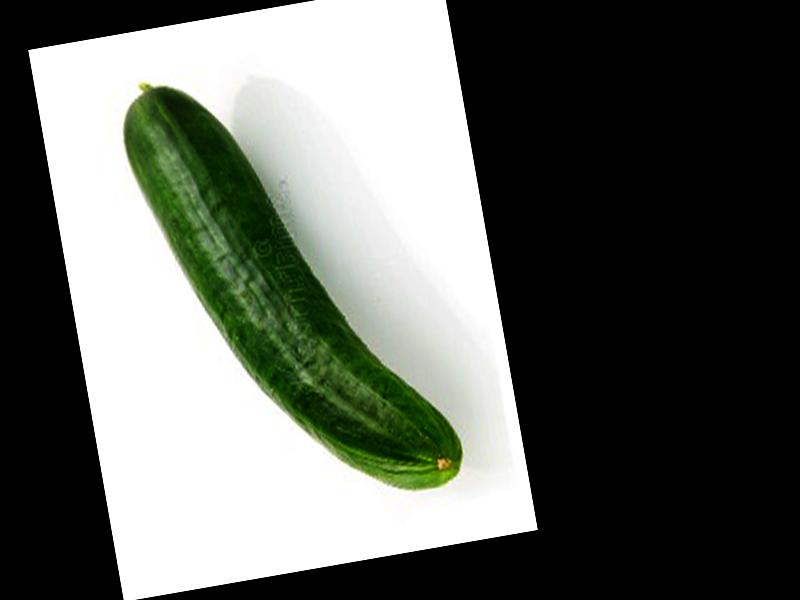Cucumber: (117, 46, 467, 529)
